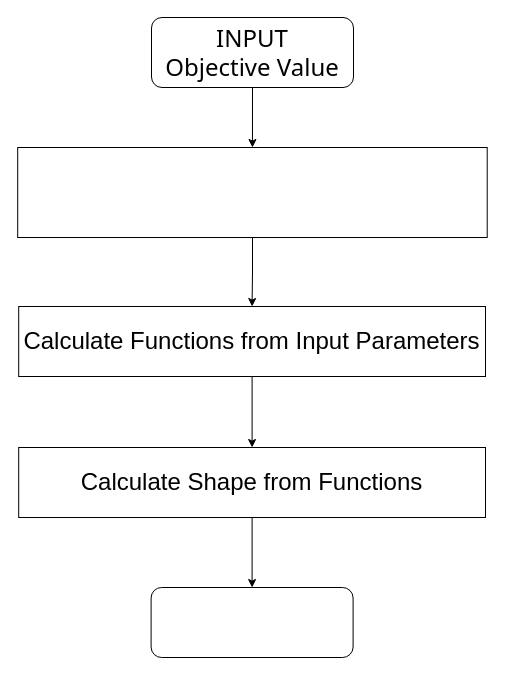
Image size: 505x675. Some labels were removed from this diagram. Here are the shapes that lost their labels. From the top down, the centre of each, then its label:
[252,192]: Calculate Input Parameters from Prior Process of Gaussian Process
[251,622]: OUTPUT Surface Shape
